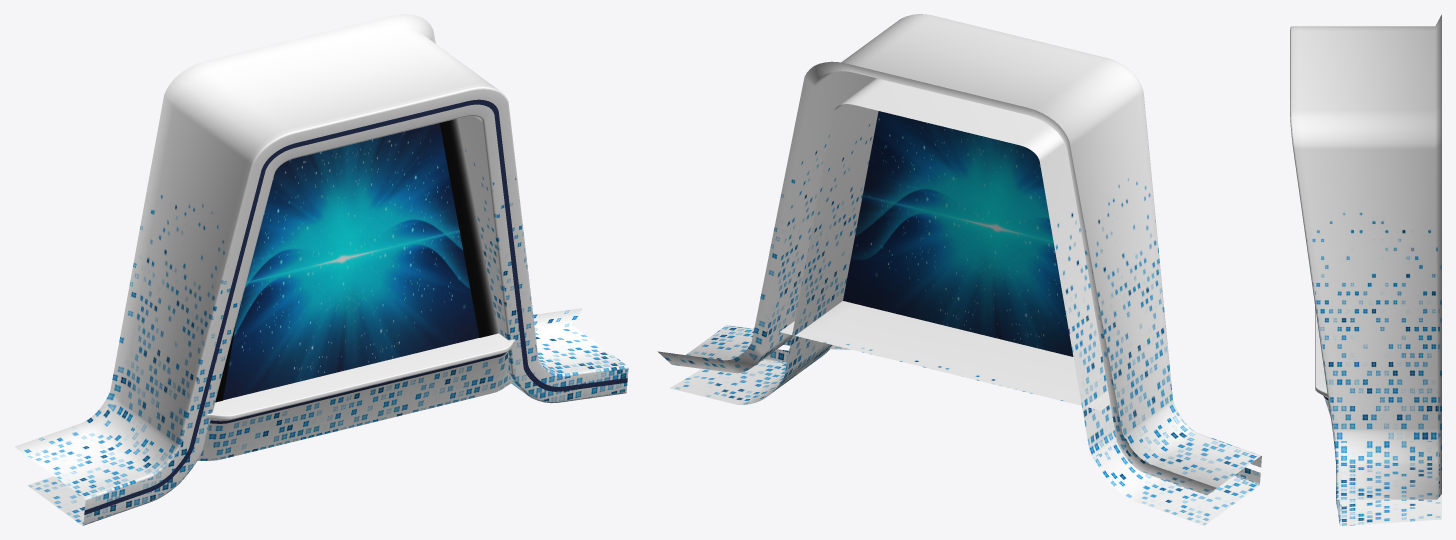
The model's file is CD_JZ_vr_zhantai01.FBX.
3 renders of one model, left to right at view 1: azimuth 30°, elevation 25°; view 2: azimuth 150°, elevation 25°; view 3: azimuth 270°, elevation 25°, orthographic. The views are drawn at different scales.
Parts seen in each view (by area): view 1: CD_JZ_vr_zhantai01; view 2: CD_JZ_vr_zhantai01; view 3: CD_JZ_vr_zhantai01.
Part boxes in pixels (left/top/right/bottom): CD_JZ_vr_zhantai01: left=15, top=14, right=628, bottom=525; CD_JZ_vr_zhantai01: left=657, top=14, right=1261, bottom=525; CD_JZ_vr_zhantai01: left=1290, top=14, right=1441, bottom=525.
Bounding box in the file's own units: 835 × 535 × 213.
